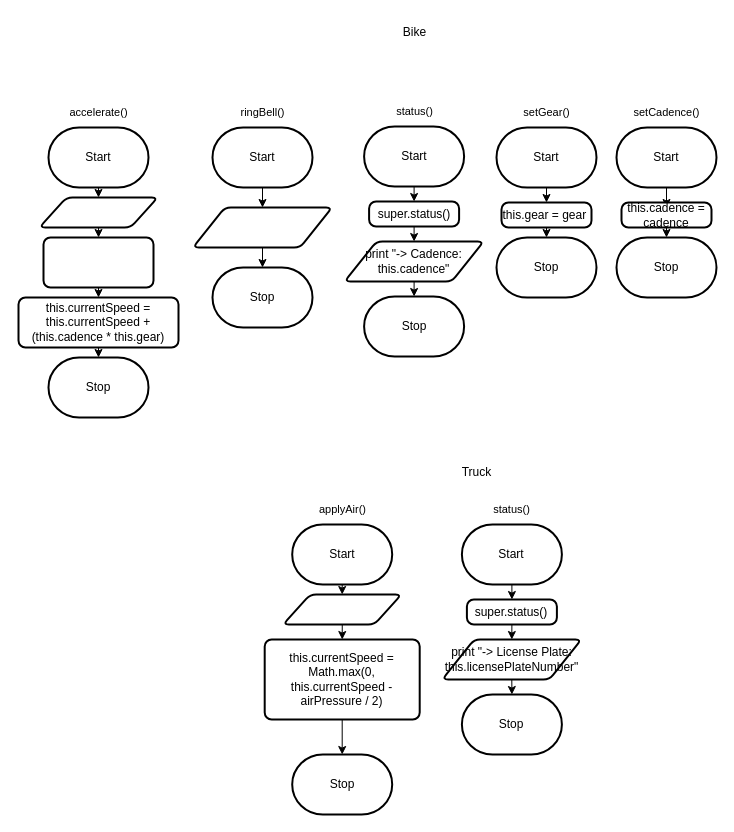
Image size: 734x832. Some labels were removed from this diagram. The centre of each missing label's shape, as x and y in pixels:
get appliedPower: (98,212)
get appliedPressure: (342,609)
return "Ding ding!": (262,227)
this.cadence = this.cadence + appliedPower: (98,262)
